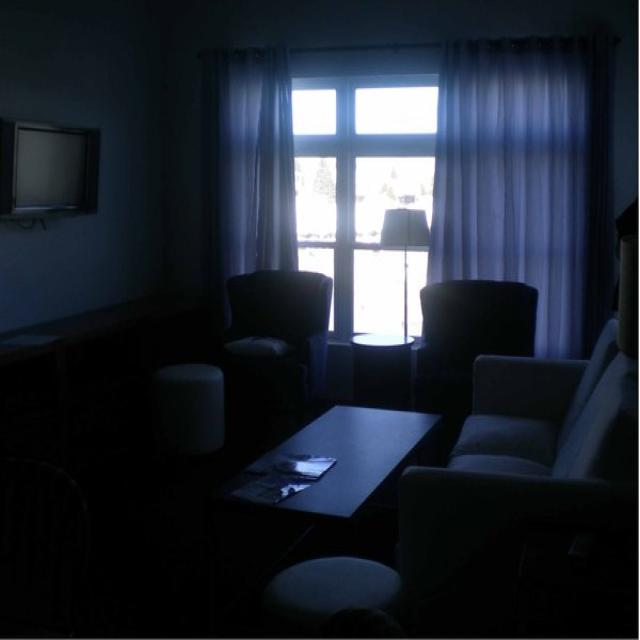Table: (213, 379, 459, 585)
chair: (469, 345, 628, 608), (416, 273, 549, 422), (221, 261, 335, 419), (269, 553, 416, 639)
